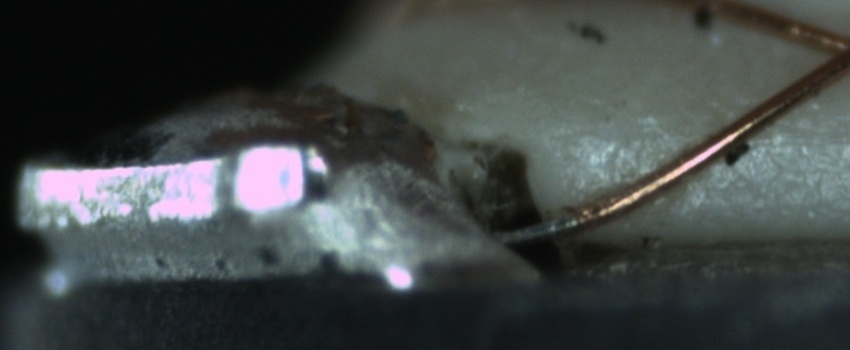CL: (802, 16, 850, 84)
DL: (564, 106, 848, 170)
TS: (495, 216, 576, 244)
